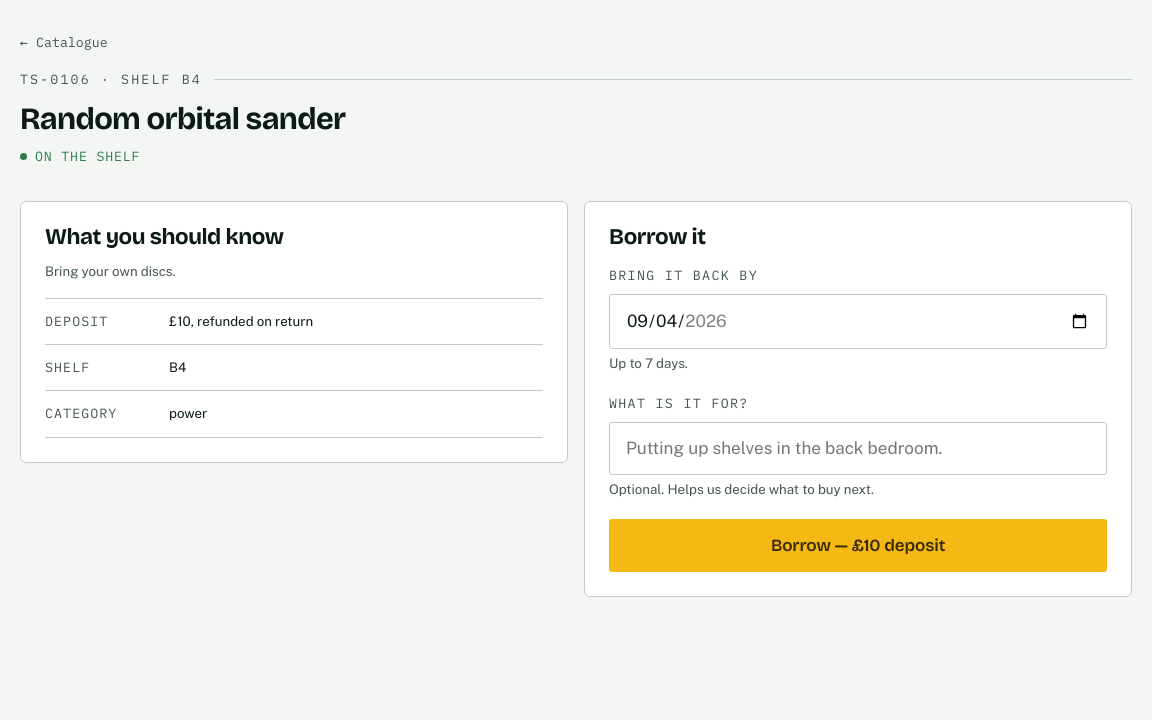
ToolDetail — borrowing › a server field error is shown against the date input
Click the button "Borrow — £10 deposit" at point(858, 545), box [609, 519, 1107, 572]
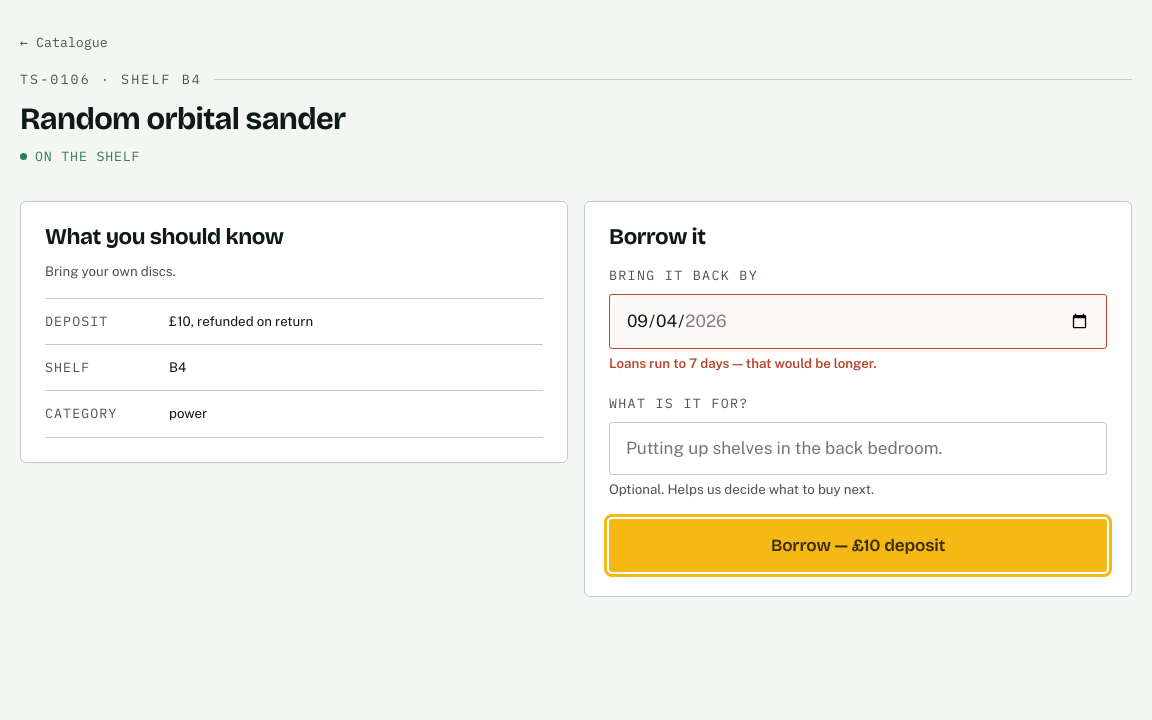
Expected: the text "Loans run to 7 days — that would be longer." is shown, [609, 355, 877, 371]
